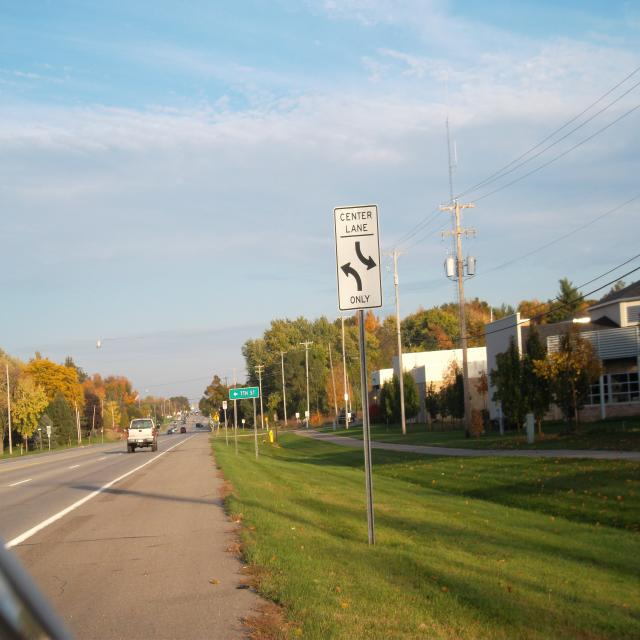regulatory: (332, 202, 385, 313), (222, 401, 227, 409)
warning: (214, 414, 219, 422)
